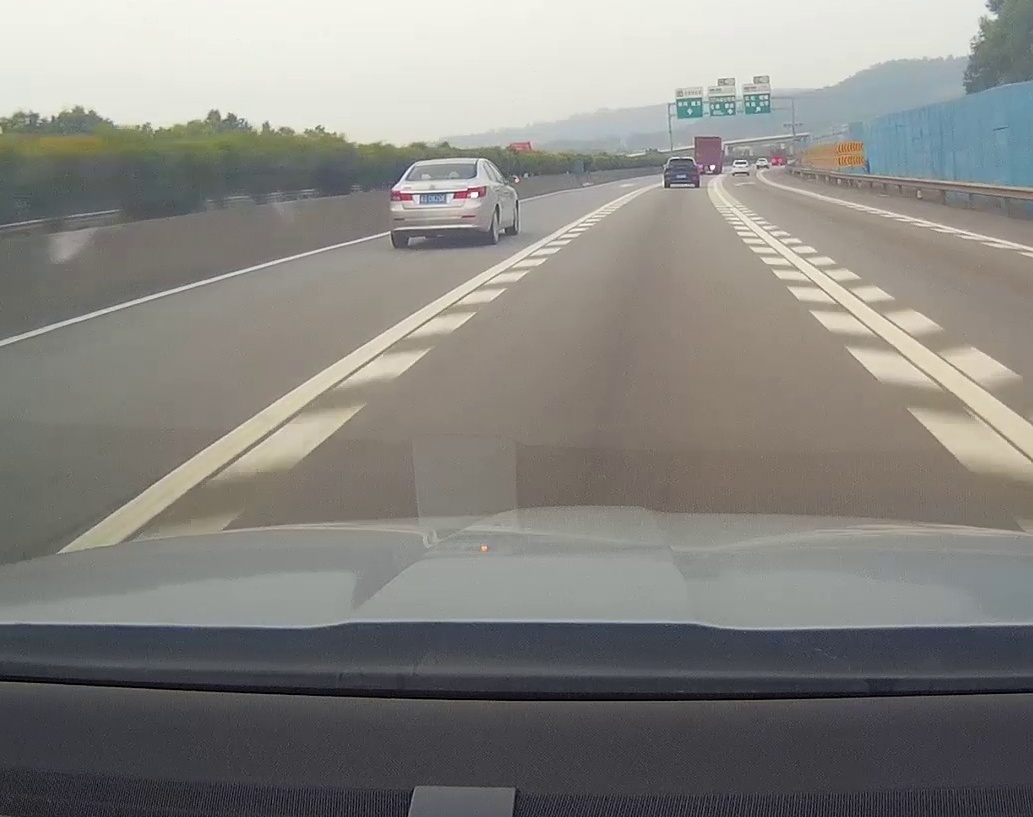L_light: (390, 190, 413, 201), (665, 168, 673, 172)
R_light: (453, 185, 486, 198), (691, 167, 698, 171)
T_light: (437, 163, 450, 167), (678, 159, 684, 161)
day-no: (664, 157, 699, 188)
day-right: (389, 157, 487, 246)
